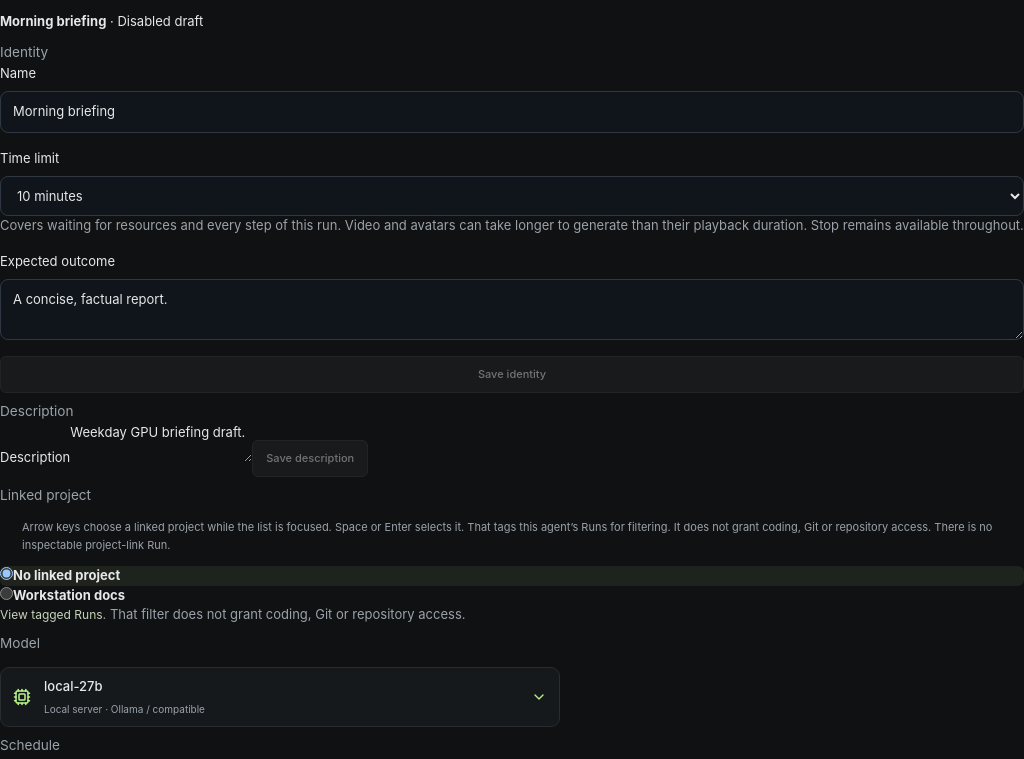
Scenario: saves a linked project from the conversation without Enable or Run now
Expected: the radio button with aria-label "Linked project none agent-on" is checked, [0, 567, 13, 580]
Expected: the text "does not grant coding, Git or repository access" is shown, [22, 520, 992, 552]
What coordinates should you click on to do the following:
click the radio button with aria-label "Linked project project-1"
I would click on:
 (6, 593)
Its box is [0, 587, 13, 600].
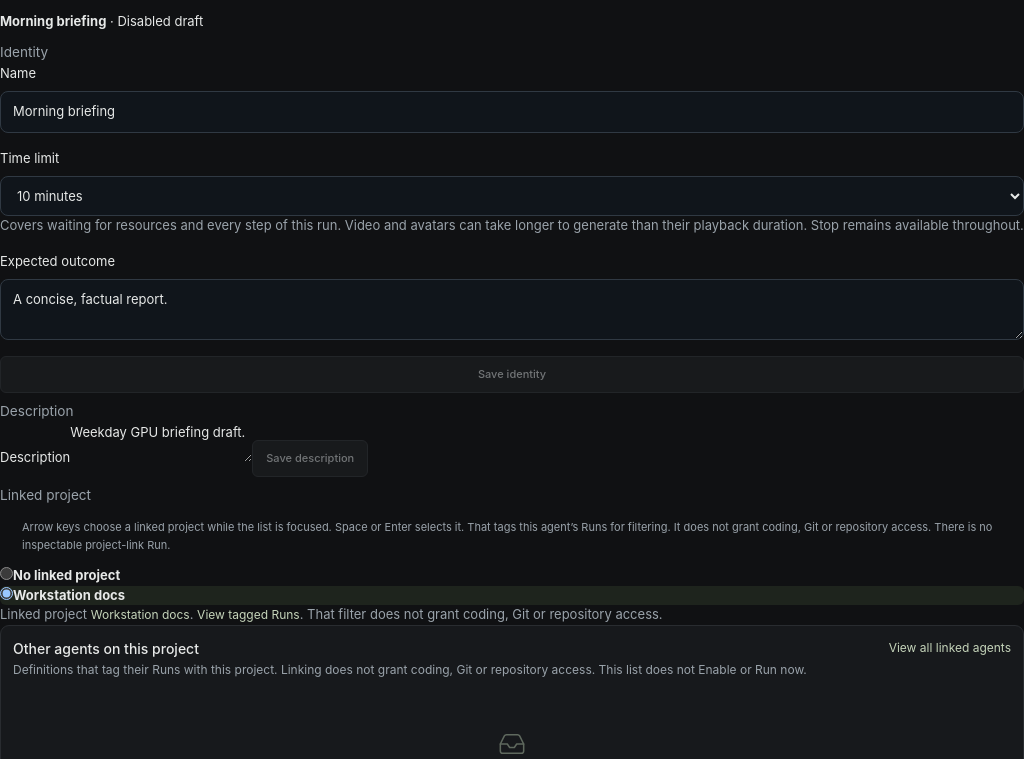
Expected: the radio button with aria-label "Linked project project-1" is checked, [0, 587, 13, 600]
Expected: the link with aria-label "Inspect project project-1" reads "Workstation docs", [91, 606, 190, 624]
